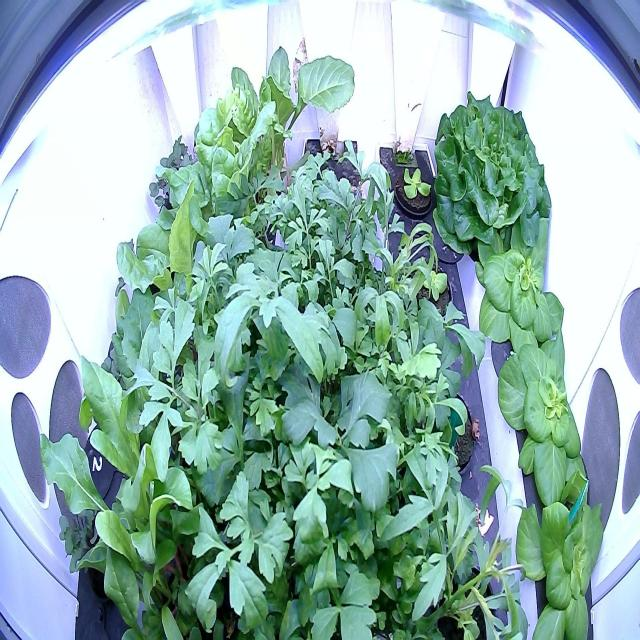young: (494, 322, 600, 511), (468, 210, 570, 362), (508, 495, 607, 639), (406, 246, 457, 330), (388, 153, 438, 227)
